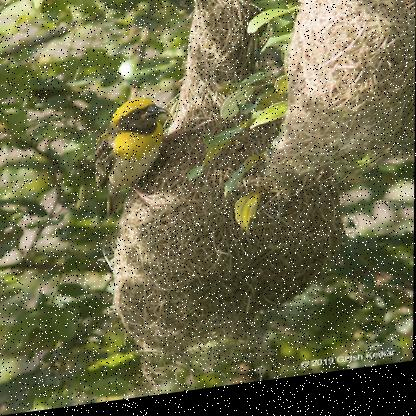Burung: (93, 97, 167, 219)
